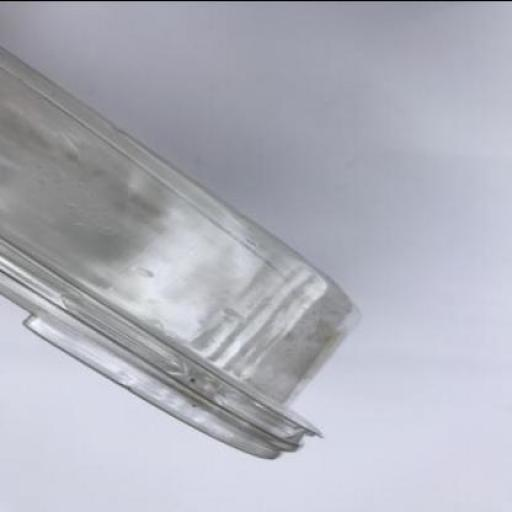plastic: (1, 46, 363, 460)
